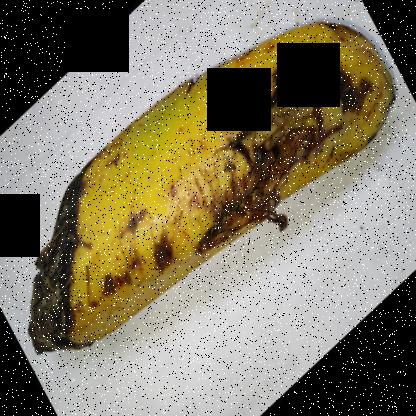ripe: (71, 8, 396, 370)
rotten: (192, 50, 336, 270), (14, 178, 98, 371)
